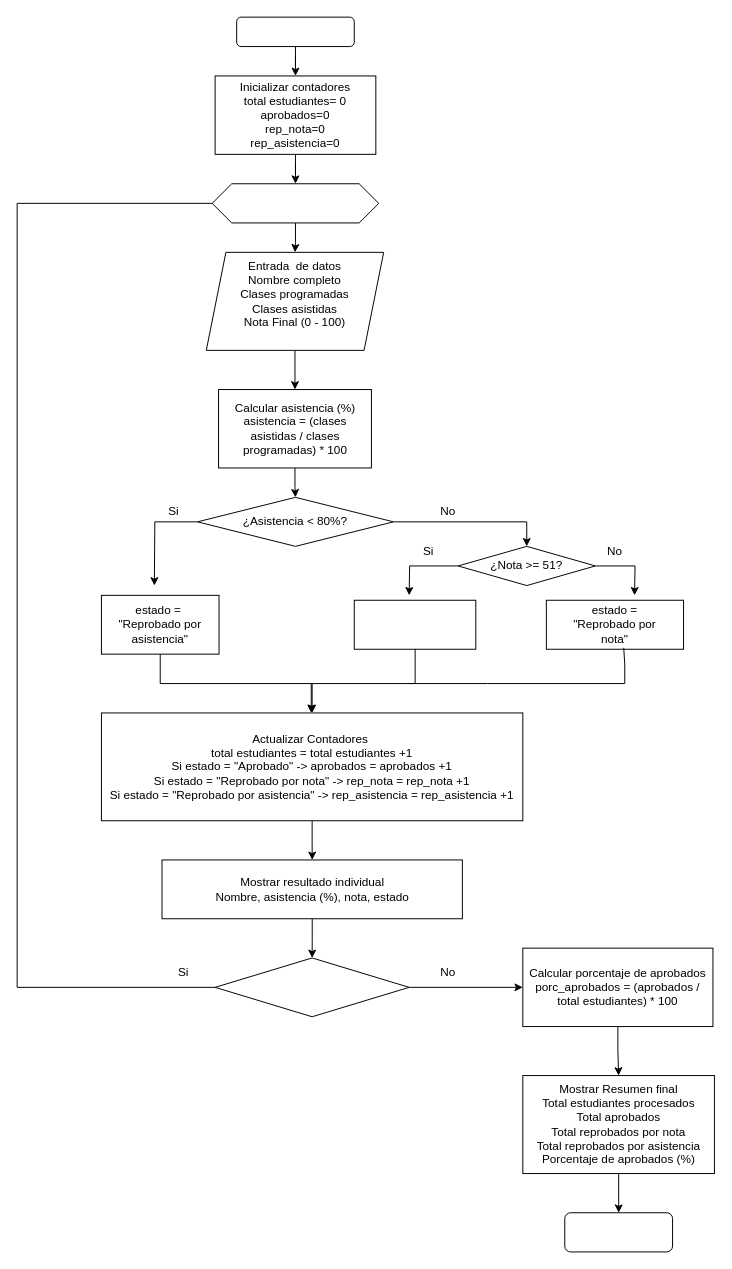
Some shapes in this 732 by 1269 pixel diagram are drawn without their labels. The box of each missing label's shape, as (x1, y1, x2, y2) in pixels:
BUCLE MENTRAS (registrar estudiantes): (211, 183, 379, 223)
estado = "Aprobado": (353, 599, 476, 649)
FIN: (564, 1212, 673, 1252)
INICIO: (236, 16, 354, 47)
¿Desea Registrar otro estudiante?: (214, 957, 409, 1017)
